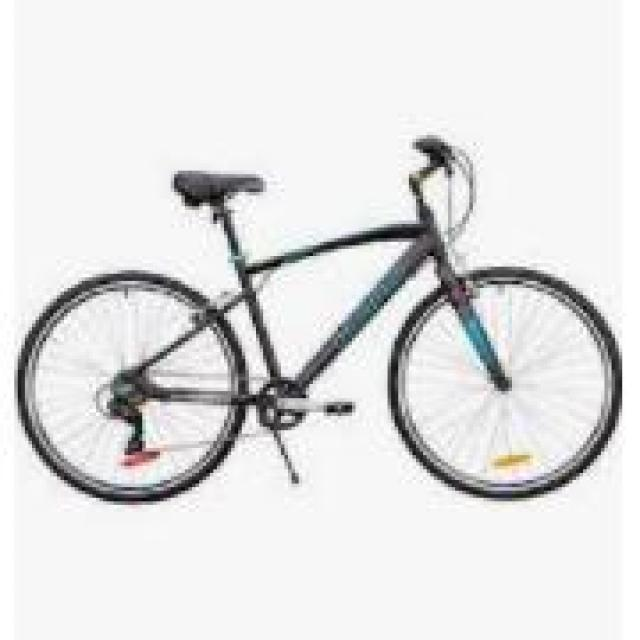bicycle: (15, 154, 620, 520)
